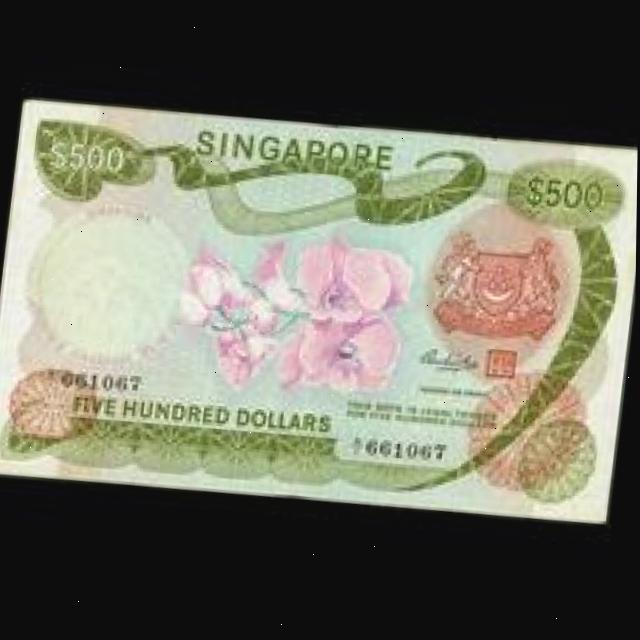banknote: (0, 82, 639, 540), (75, 383, 340, 445), (510, 164, 619, 233), (38, 128, 142, 193)
